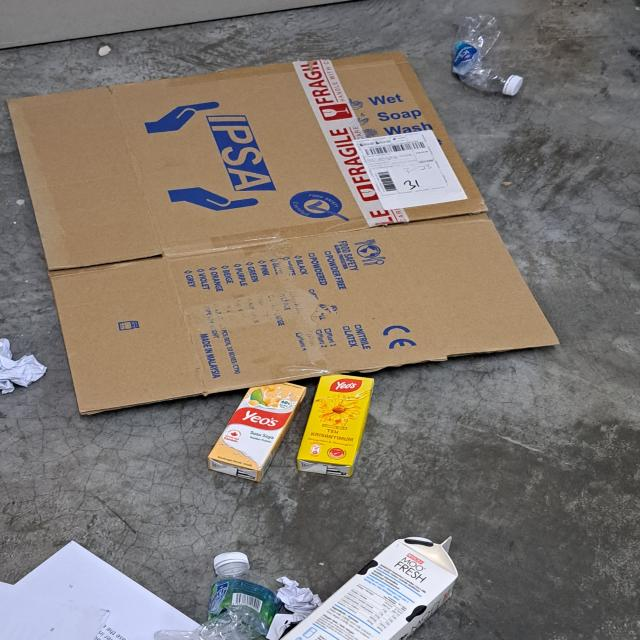cardboard: (10, 49, 559, 416)
drink carton: (284, 535, 460, 640), (209, 378, 307, 482), (301, 373, 374, 474)
paper: (0, 540, 202, 640), (0, 332, 46, 393), (278, 574, 323, 626)
plastic bottle: (157, 548, 276, 640), (452, 20, 528, 95)
plastic bottle cap: (213, 549, 250, 573), (499, 72, 526, 94)
